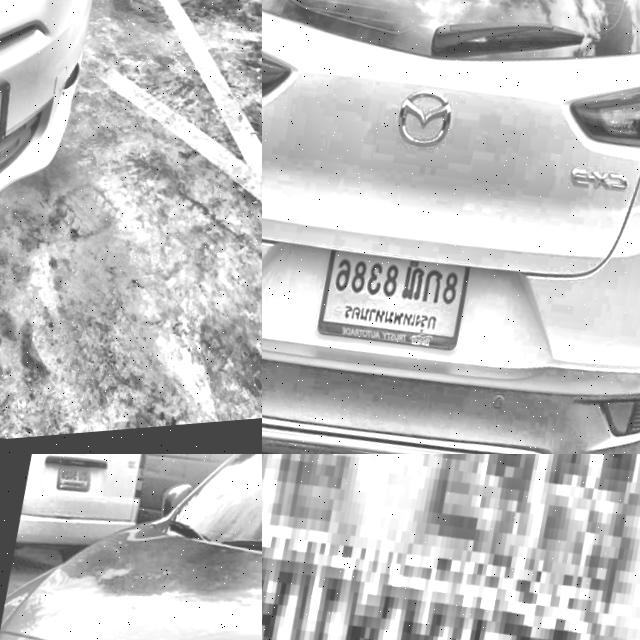license-plate: (262, 454, 640, 640), (308, 236, 472, 369), (51, 455, 97, 502)
